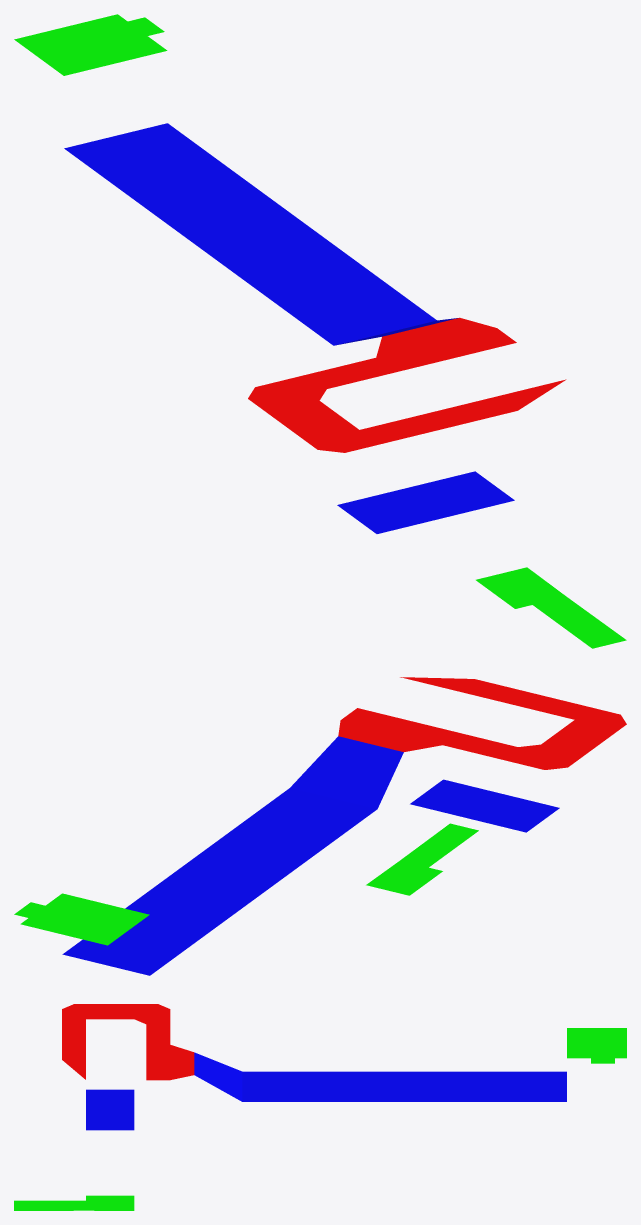
The model's file is PisoSala4.glb.
3 renders of one model, top to bottom at view 1: azimuth 30°, elevation 25°; view 2: azimuth 150°, elevation 25°; view 3: azimuth 270°, elevation 25°, orthographic. The views are drawn at different scales.
Parts seen in each view (by area): view 1: PisoSala4; view 2: PisoSala4; view 3: PisoSala4.
Boxes of the visible parts, x1,y1,x2,y2 form: PisoSala4: [14, 14, 626, 648]; PisoSala4: [14, 677, 626, 975]; PisoSala4: [14, 1004, 626, 1210].
Bounding box in the file's own units: 16 × 14 × 51.
